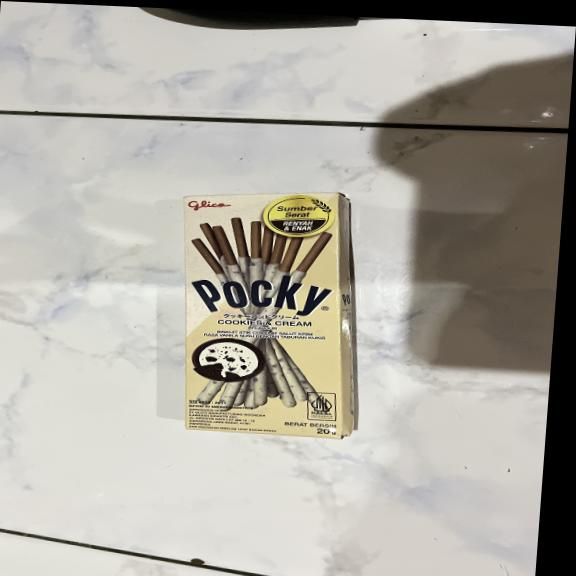Kertas: (151, 187, 372, 436)
